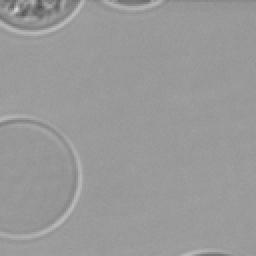picoshell: (0, 114, 82, 240), (100, 0, 162, 10)
